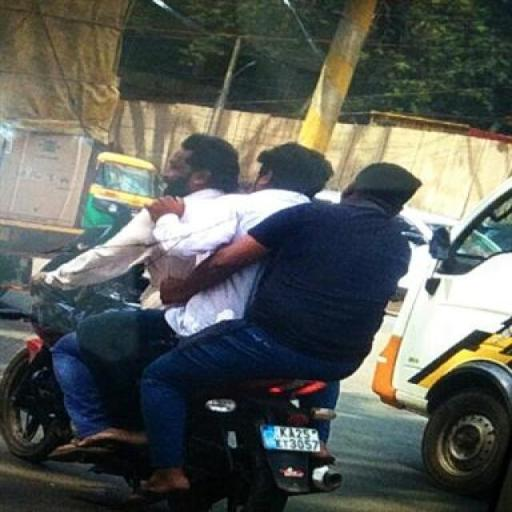tripple riding: (28, 120, 422, 354)
